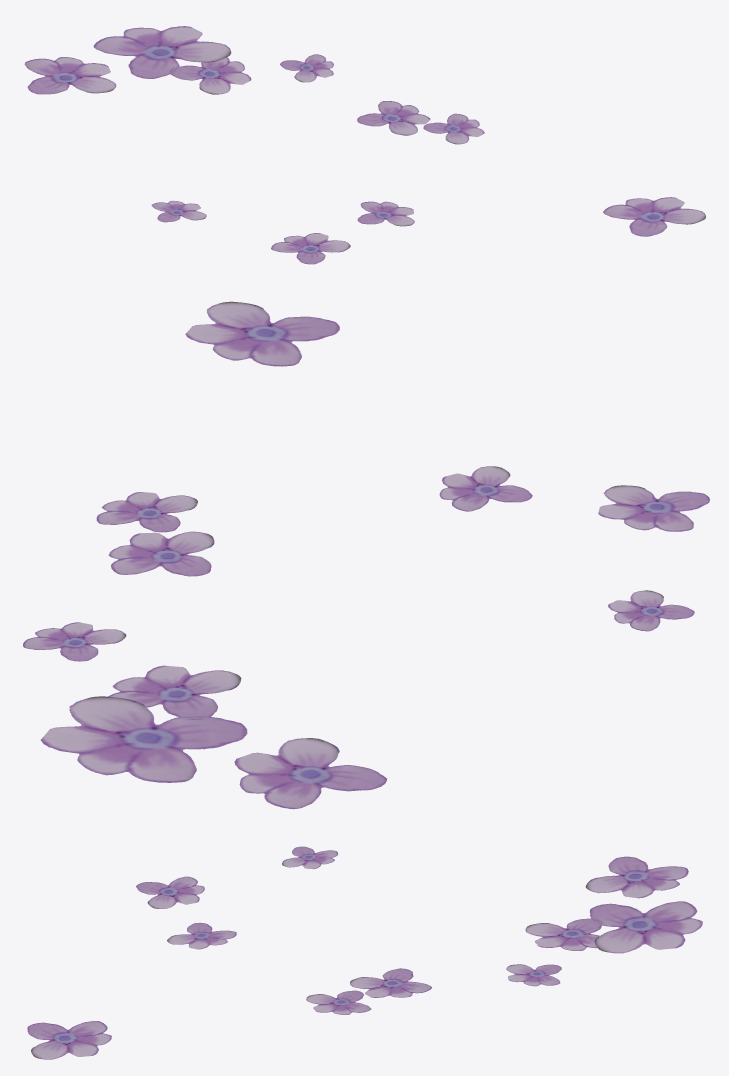
Rendered from 110101_flower_004.FBX.
The picture shows the model from 3 angles, top to bottom: view 1: azimuth 30°, elevation 25°; view 2: azimuth 150°, elevation 25°; view 3: azimuth 270°, elevation 25°; orthographic projection. The views are drawn at different scales.
Visible parts, largest first — view 1: 110101_flower_004; view 2: 110101_flower_004; view 3: 110101_flower_004.
Part boxes in pixels (bbox=[...]): 110101_flower_004: bbox=[24, 26, 705, 264]; 110101_flower_004: bbox=[23, 301, 709, 809]; 110101_flower_004: bbox=[27, 846, 702, 1059].
Bounding box in the file's own units: 1.1 × 0.0269 × 1.53.
